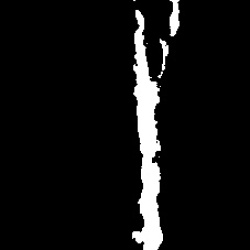crack: (133, 2, 180, 249)
